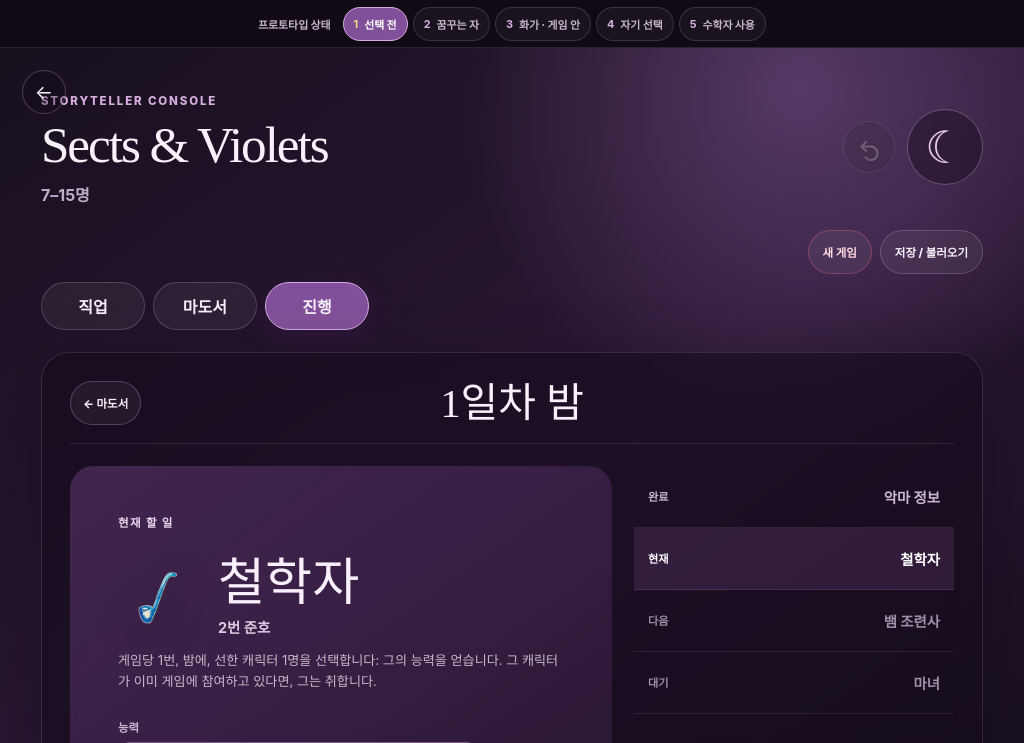
Test case: keeps Philosopher as actor while the reused ability owns its summary
Click the button "5 수학자 사용" at (722, 24), box [679,6,766,40]
(page scrolled)
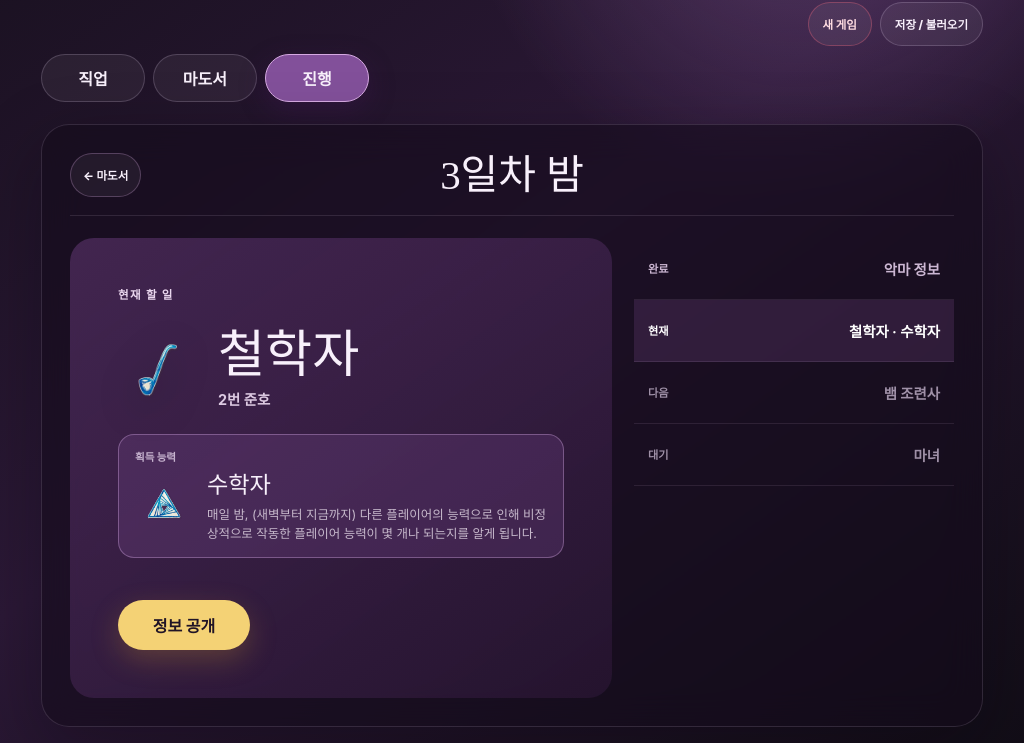
Expected: the text "비정상적으로 작동한 플레이어 능력이 몇 개" is shown, [207,507,546,541]
Expected: the text "게임당 1번, 밤에, 선한 캐릭터 1명을 선택합니다" is gone
Expected: the button "정보 공개" is shown, [118,600,250,650]
